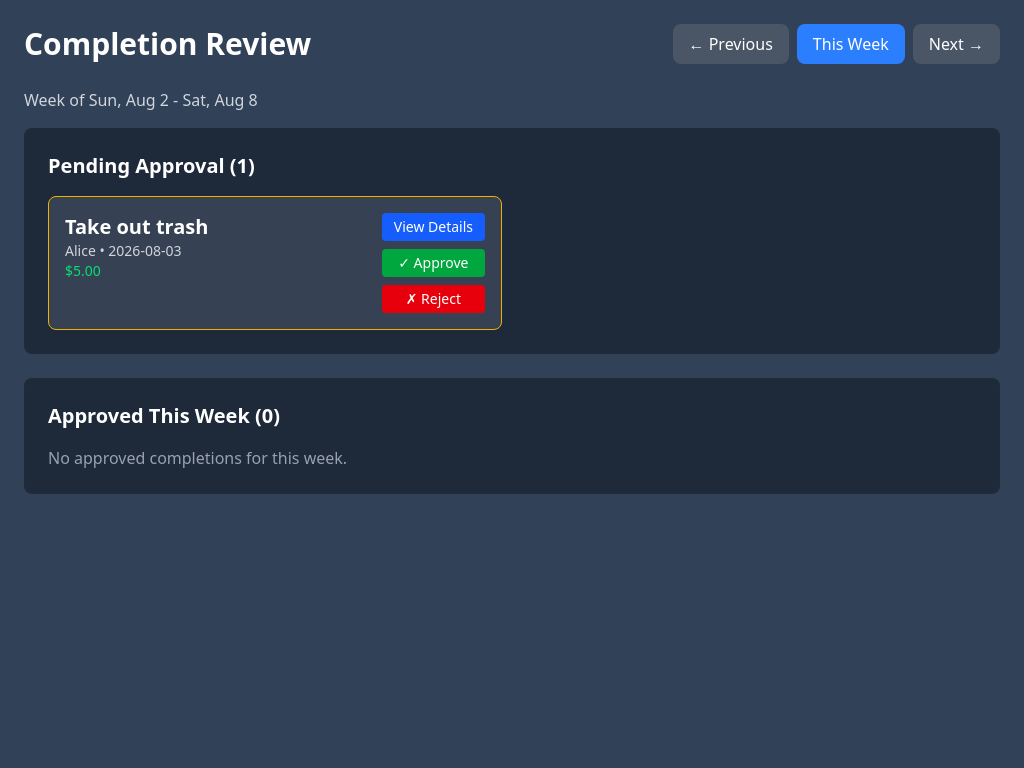
AdminCompletionReview completion detail modal › View Details opens the Completion Details modal; the close button clears it
Expected: the heading "Completion Review" is shown, [24,26,311,62]
Click the button "View Details" at (433, 227), box [382,213,485,241]
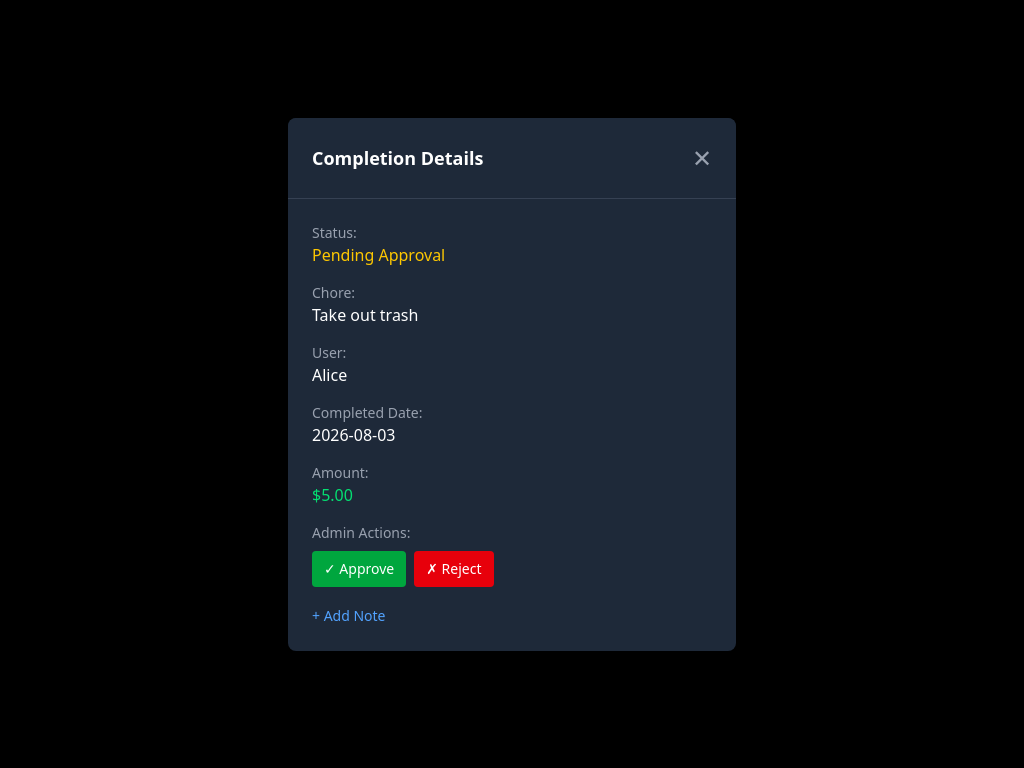
Expected: the heading "Completion Details" is shown, [312,144,483,172]
Expected: the text "Chore:" is shown, [312,282,355,302]
Expected: the text "Pending Approval" is shown, [312,244,445,266]
Click the button named "Close modal" at (702, 158), box [692,142,712,174]
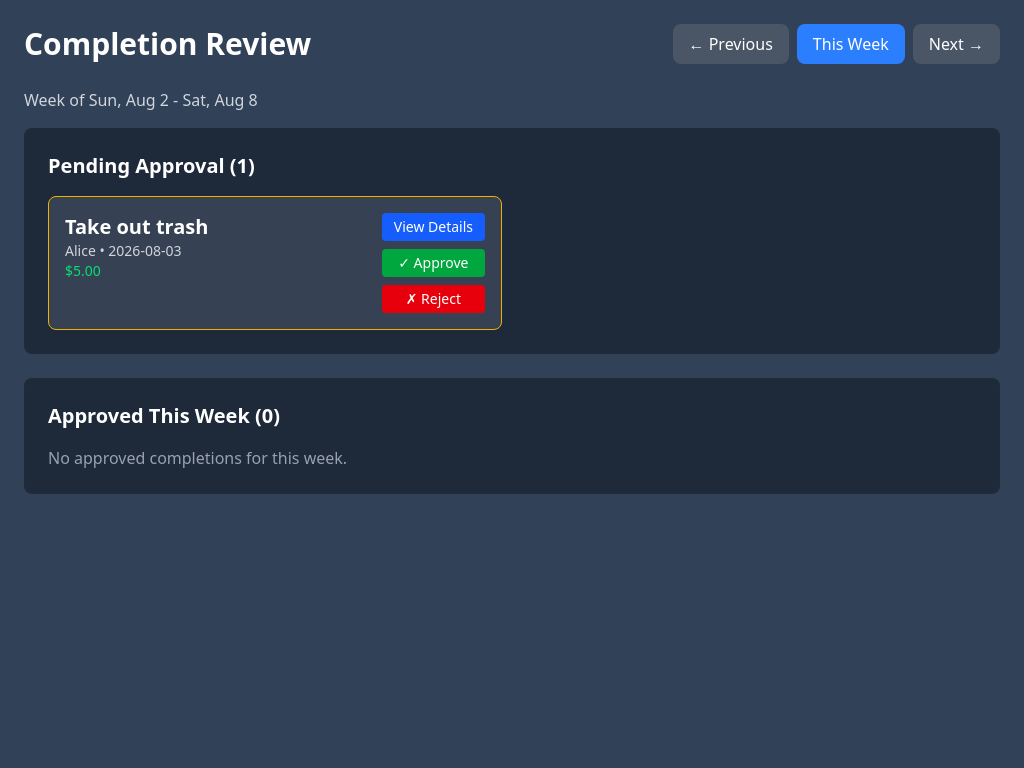
Expected: the heading "Completion Details" is gone
